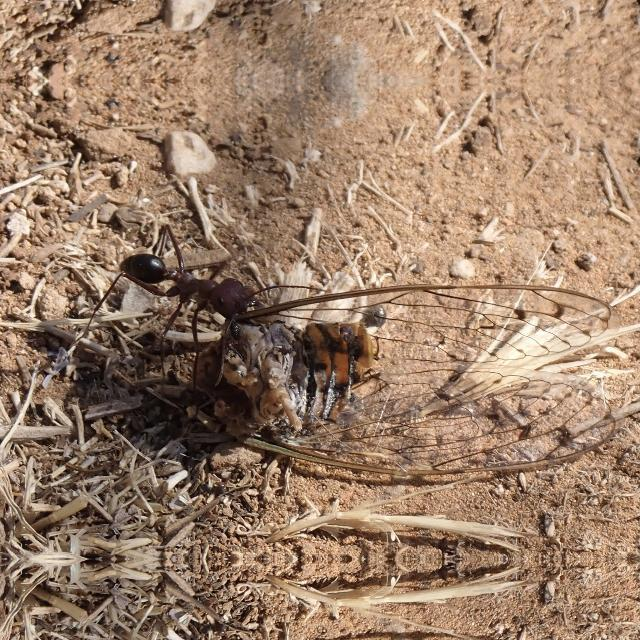Cataglyphis: (106, 239, 274, 333)
